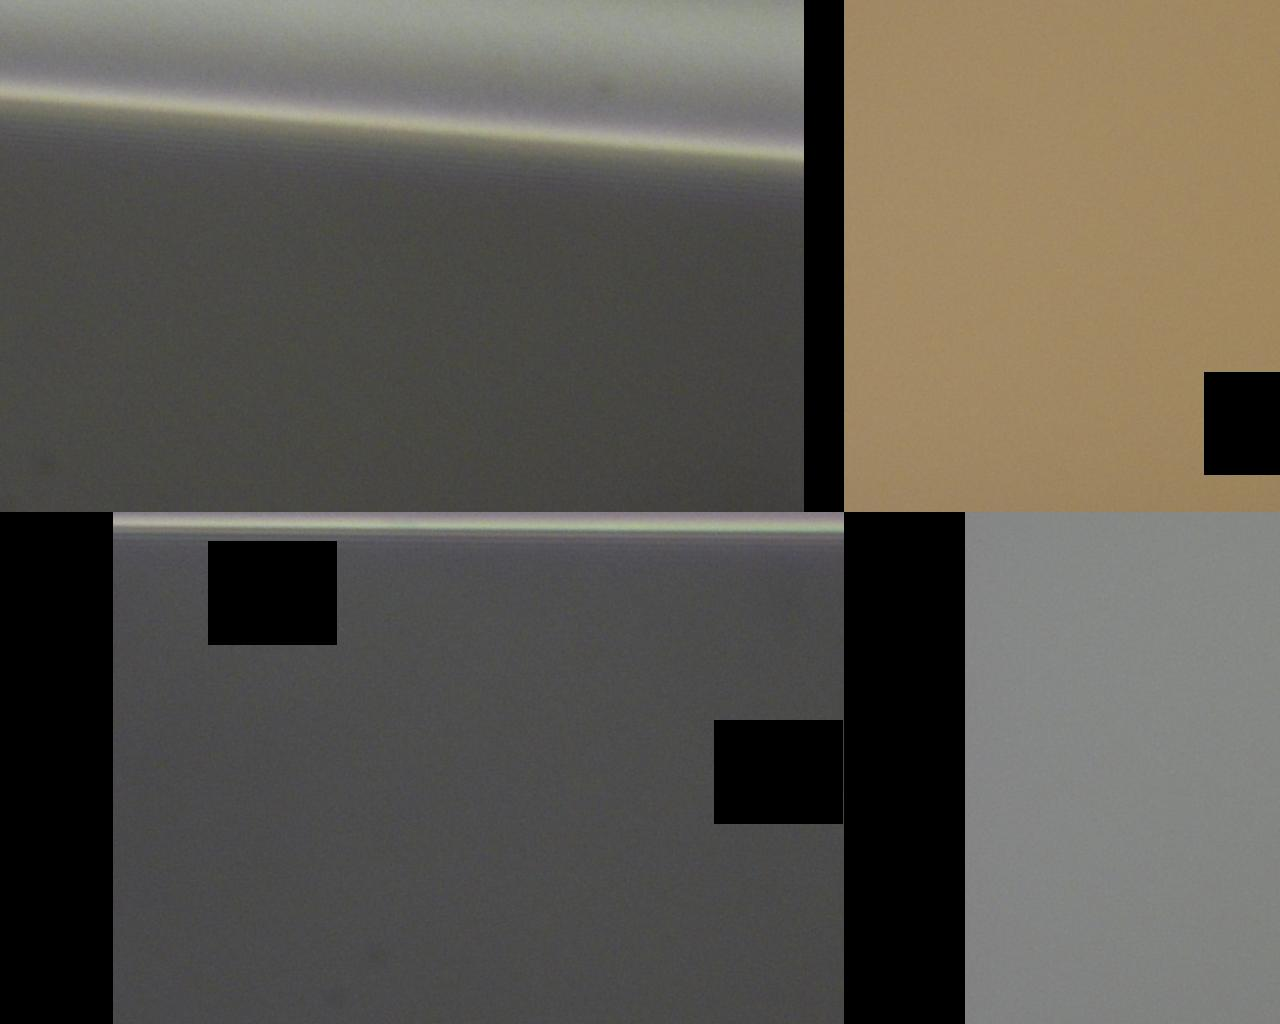fiber: (409, 0, 1236, 326)
